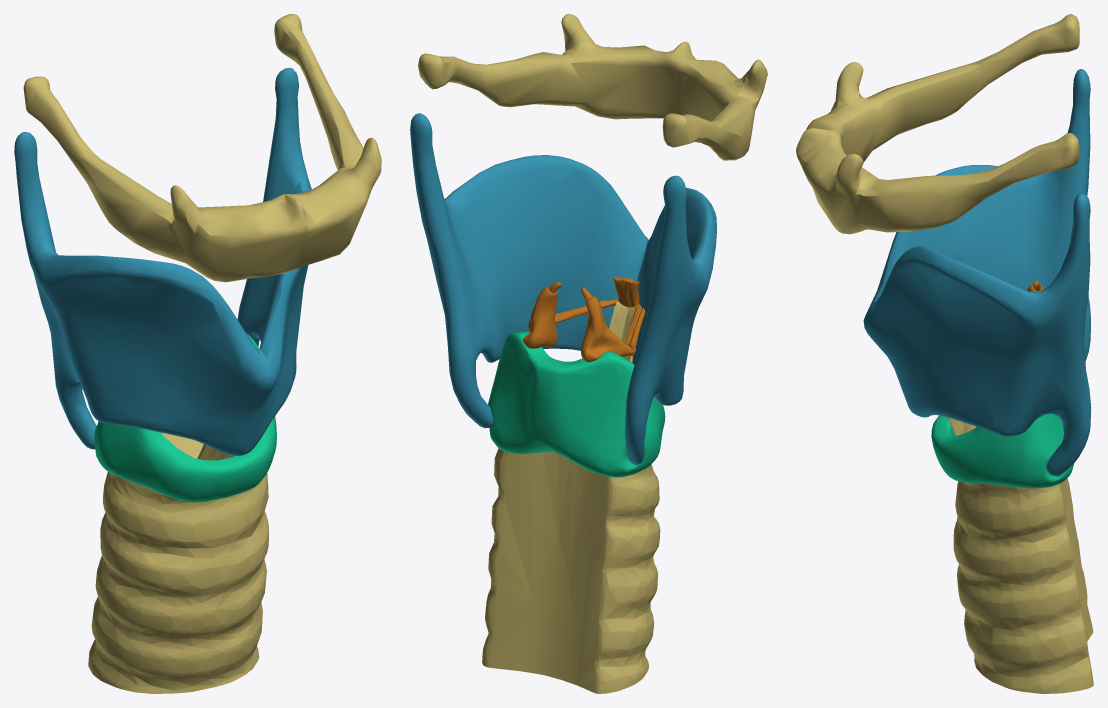
The model's file is fbx_frame_0012.obj.
3 views of the same model, side by side, from view 1: azimuth 30°, elevation 25°; view 2: azimuth 150°, elevation 25°; view 3: azimuth 270°, elevation 25° (orthographic). The views are drawn at different scales.
Parts seen in each view (by area): view 1: maya2sketchfab.010, maya2sketchfab.001, maya2sketchfab.011, maya2sketchfab.005; view 2: maya2sketchfab.010, maya2sketchfab.001, maya2sketchfab.011, maya2sketchfab.005, maya2sketchfab.004, maya2sketchfab.006, maya2sketchfab.007; view 3: maya2sketchfab.010, maya2sketchfab.001, maya2sketchfab.011, maya2sketchfab.005.
Boxes of the visible parts, <box> form: maya2sketchfab.010: <box>14,67,311,455</box>; maya2sketchfab.001: <box>88,433,268,693</box>; maya2sketchfab.011: <box>23,14,381,282</box>; maya2sketchfab.005: <box>94,334,276,502</box>; maya2sketchfab.010: <box>410,113,716,464</box>; maya2sketchfab.001: <box>482,301,660,693</box>; maya2sketchfab.011: <box>418,14,767,160</box>; maya2sketchfab.005: <box>488,331,665,477</box>; maya2sketchfab.004: <box>581,287,635,362</box>; maya2sketchfab.006: <box>523,282,561,348</box>; maya2sketchfab.007: <box>613,276,639,307</box>; maya2sketchfab.010: <box>863,69,1091,476</box>; maya2sketchfab.001: <box>947,417,1093,693</box>; maya2sketchfab.011: <box>796,14,1079,234</box>; maya2sketchfab.005: <box>931,413,1074,488</box>.
Size of the model in its own units: 38.66 by 78.86 by 36.55.
